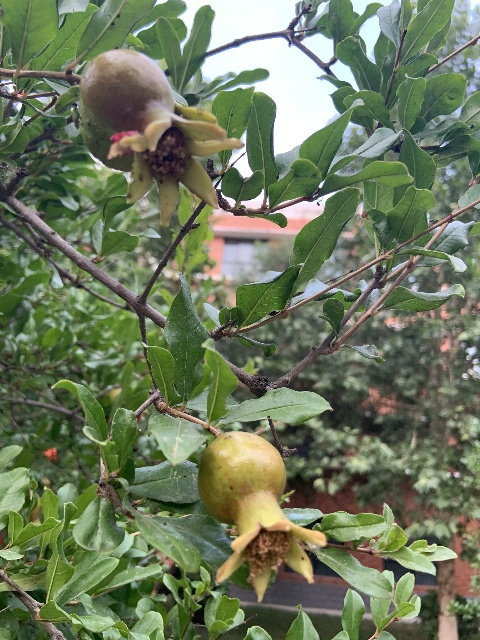early-fruit: (197, 431, 328, 602)
mid-growth: (79, 48, 244, 228)
